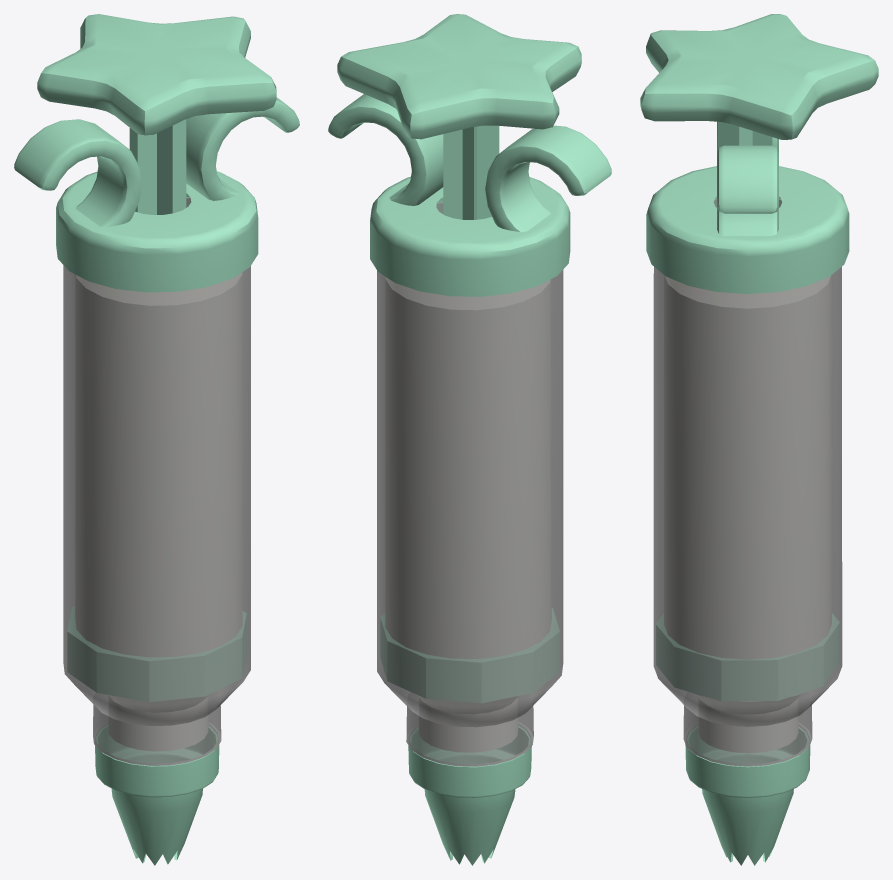
The model's file is injection.fbx.
3 renders of one model, left to right at view 1: azimuth 30°, elevation 25°; view 2: azimuth 150°, elevation 25°; view 3: azimuth 270°, elevation 25°, orthographic.
Visible parts, largest first — view 1: injection, injec_Cream, Push; view 2: injection, injec_Cream, Push; view 3: injection, injec_Cream, Push.
Boxes of the visible parts, box(x1,y1,x2,y2) form: injection: box(14, 97, 299, 865); injec_Cream: box(75, 273, 242, 656); Push: box(37, 14, 276, 701); injection: box(328, 94, 611, 865); injec_Cream: box(385, 277, 551, 658); Push: box(337, 14, 581, 702); injection: box(646, 121, 849, 865); injec_Cream: box(664, 275, 831, 701); Push: box(640, 14, 878, 700).
Bounding box in the file's own units: 4.83 × 14.23 × 3.84.
